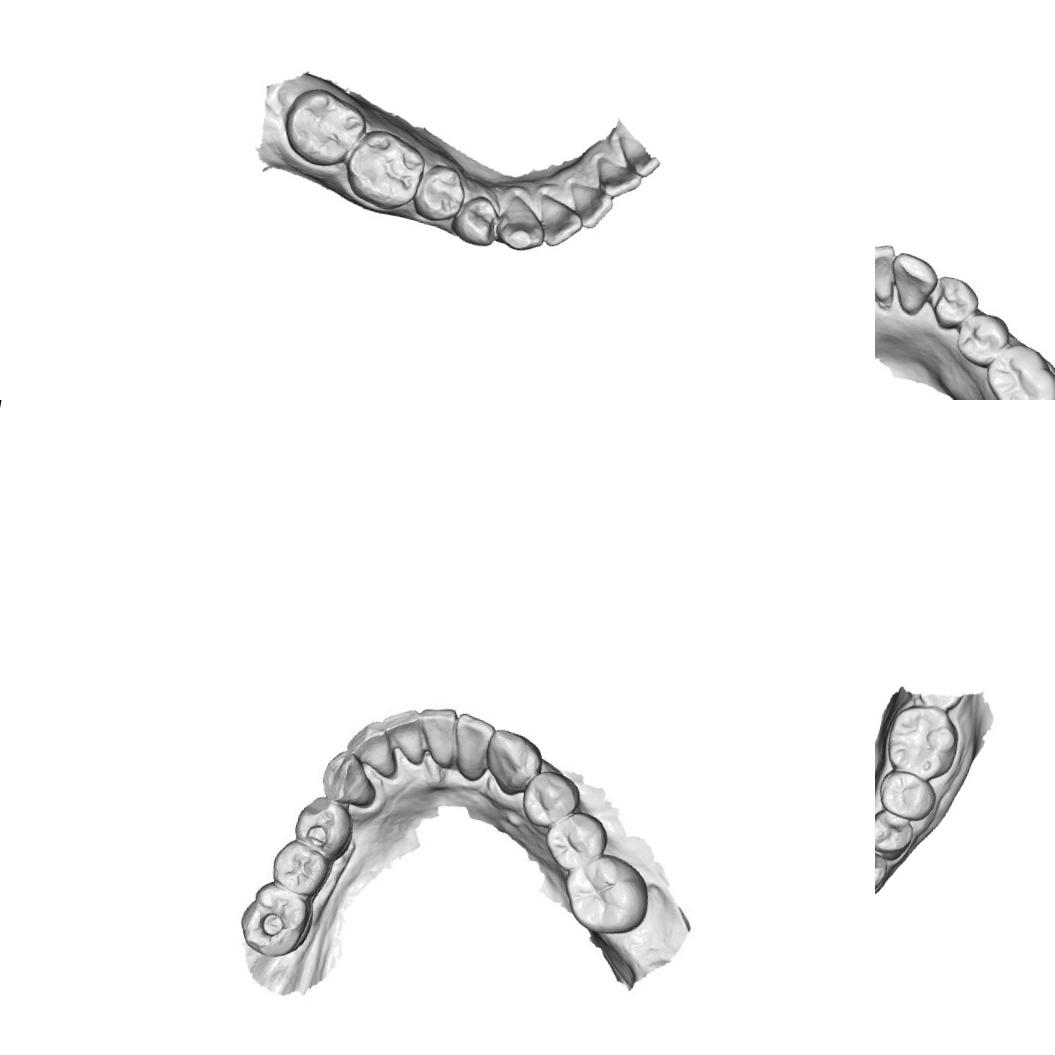canine: (480, 724, 545, 799), (314, 748, 382, 812), (880, 249, 940, 319), (492, 192, 548, 256), (875, 844, 889, 898)
incisor: (340, 715, 405, 782), (446, 708, 497, 786), (371, 702, 431, 766), (410, 701, 464, 771), (532, 193, 588, 252), (561, 178, 616, 232), (589, 154, 645, 202), (875, 238, 898, 309)
molar: (554, 845, 660, 941), (276, 81, 374, 174), (337, 122, 430, 216), (233, 873, 319, 965), (878, 696, 964, 784), (975, 336, 1055, 400)
premolar: (288, 792, 358, 862), (538, 809, 607, 878), (266, 834, 334, 898), (408, 160, 469, 229), (519, 768, 582, 832), (875, 765, 939, 824), (950, 308, 1008, 370), (447, 190, 506, 250), (924, 272, 980, 335), (875, 803, 916, 864)
